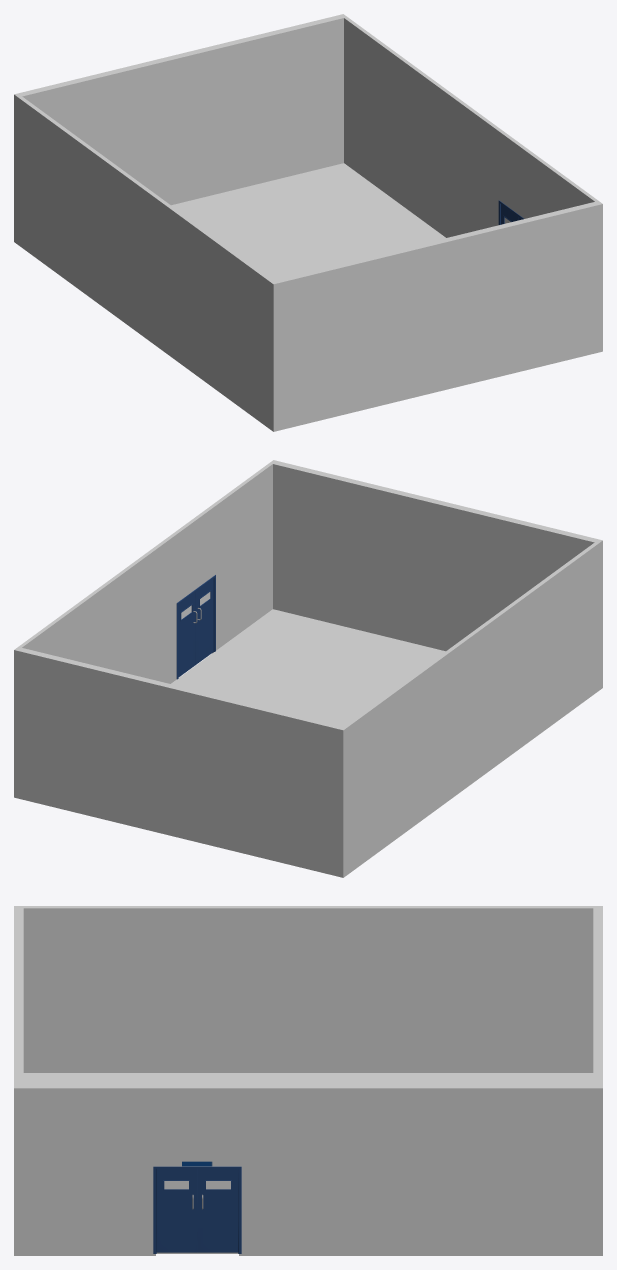
File: Washing Room Changes.fbx
3 views of the same model, one above another, from view 1: azimuth 30°, elevation 25°; view 2: azimuth 150°, elevation 25°; view 3: azimuth 270°, elevation 25° (orthographic). The views are drawn at different scales.
Visible parts, largest first — view 1: _floor_3; view 2: _floor_3, _door4, _door1, _doorframe; view 3: _floor_3, _door4, _door1, _doorframe.
Boxes of the visible parts, x1,y1,x2,y2 form: _floor_3: (14, 14, 602, 431); _floor_3: (14, 460, 602, 877); _door4: (195, 578, 213, 664); _door1: (178, 592, 195, 676); _doorframe: (176, 575, 215, 679); _floor_3: (14, 906, 602, 1255); _door4: (156, 1168, 197, 1252); _door1: (197, 1168, 238, 1252); _doorframe: (153, 1166, 241, 1253).
Bounding box in the file's own units: 817 × 347 × 1106.
Materials: 6 (1 with a texture image).
